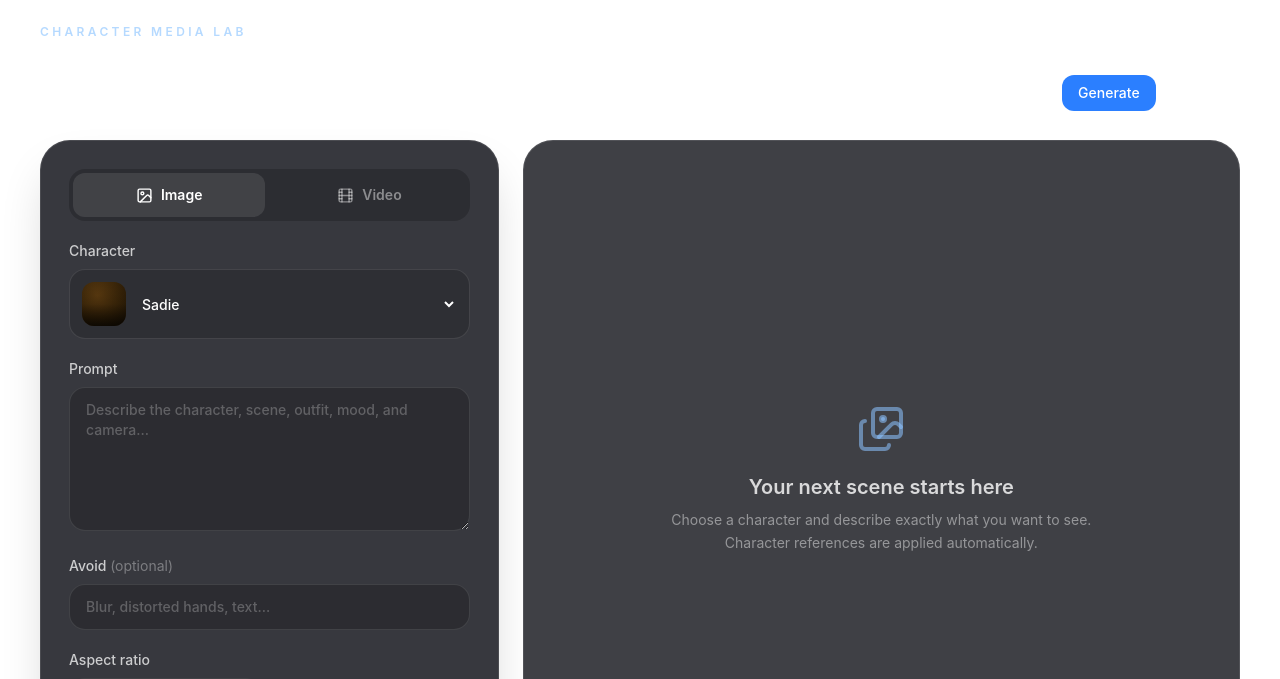
Test: OmniChatCreateWorkspace › cancels an in-progress generation without leaving a permanent spinner
Type "Sadie at the park" into the text box labelled "Prompt" at (269, 459), box [69,387,470,531]
(page scrolled)
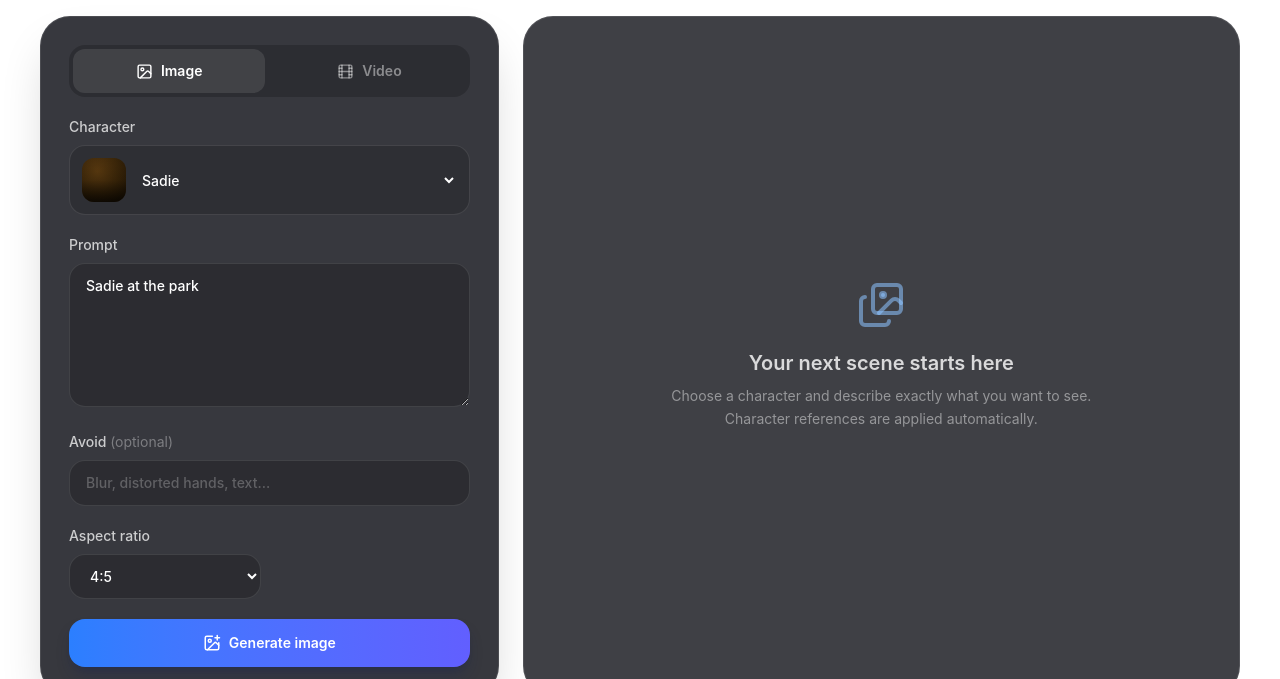
Click the button "Generate image" at (269, 643), box [69,619,470,667]
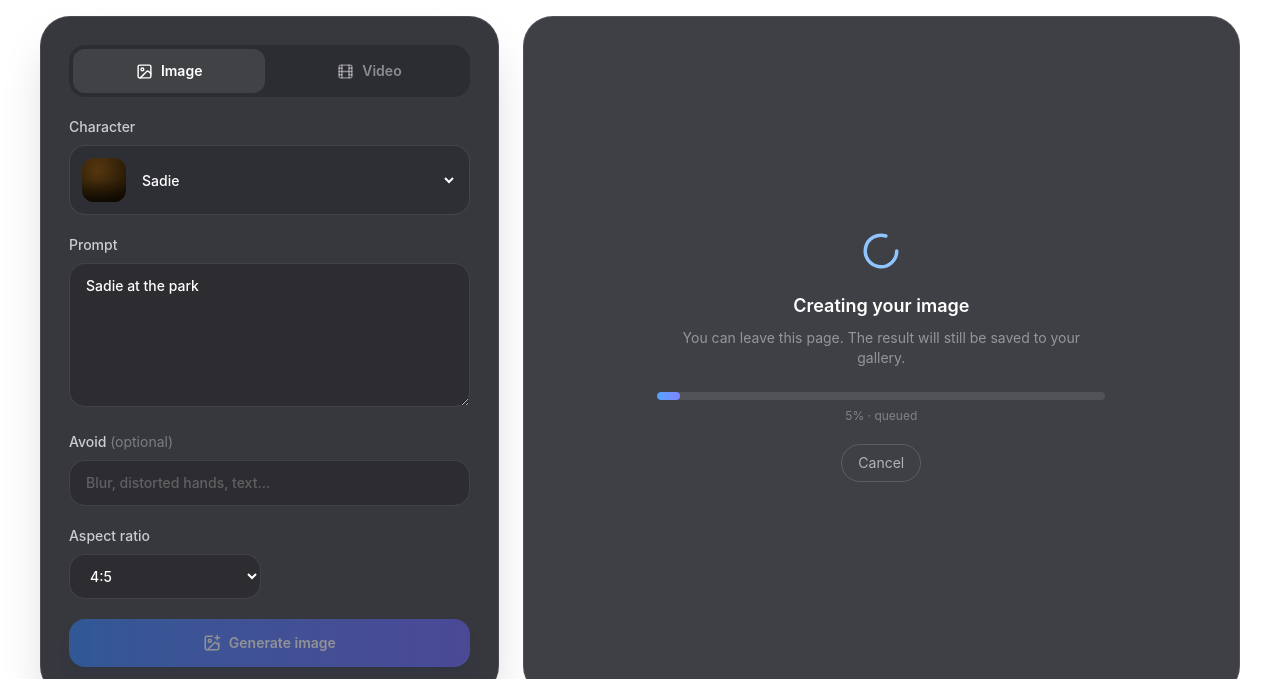
Click the button with aria-label "Cancel generation" at (881, 463), box [841,444,921,482]
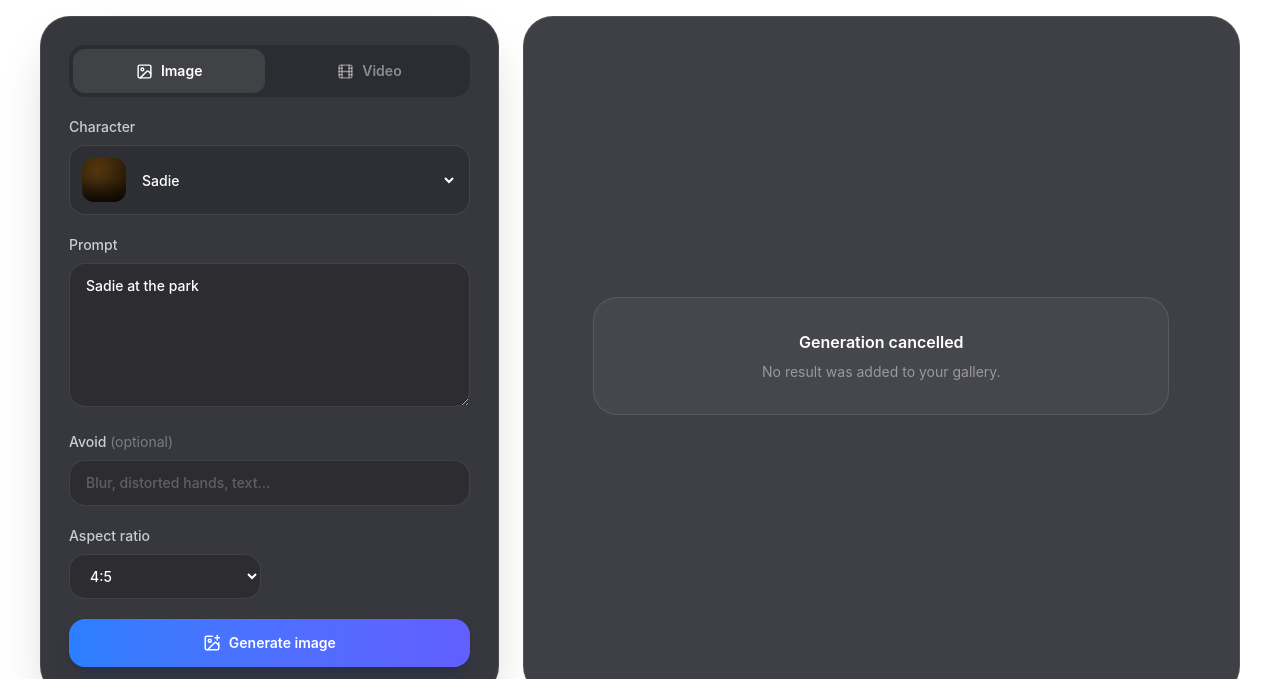
Check: the text "Generation cancelled" is shown, box [799,332,964,352]
Check: the text "Creating your image" is gone
